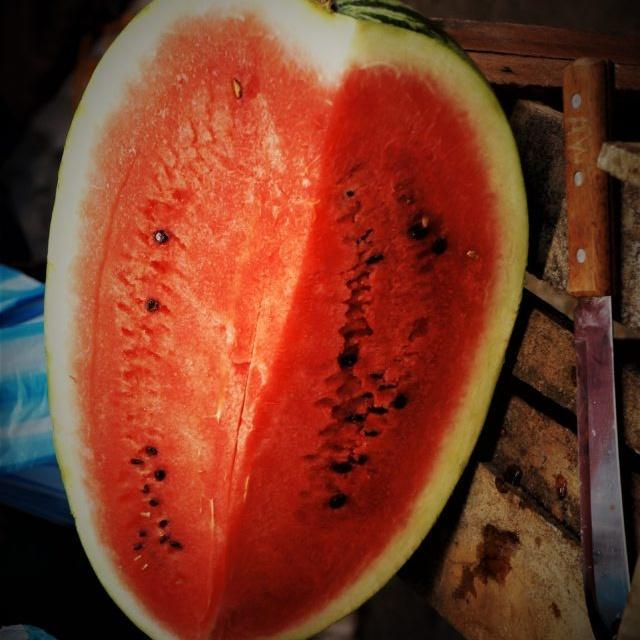watermelon: (66, 0, 554, 640)
